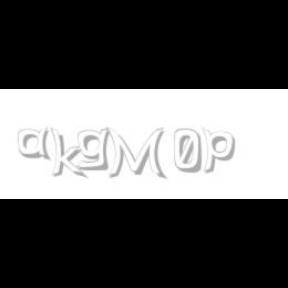0: (174, 128, 204, 174)
M: (106, 128, 164, 180)
a: (18, 128, 55, 160)
g: (76, 128, 114, 171)
k: (50, 128, 88, 180)
p: (201, 128, 238, 174)
